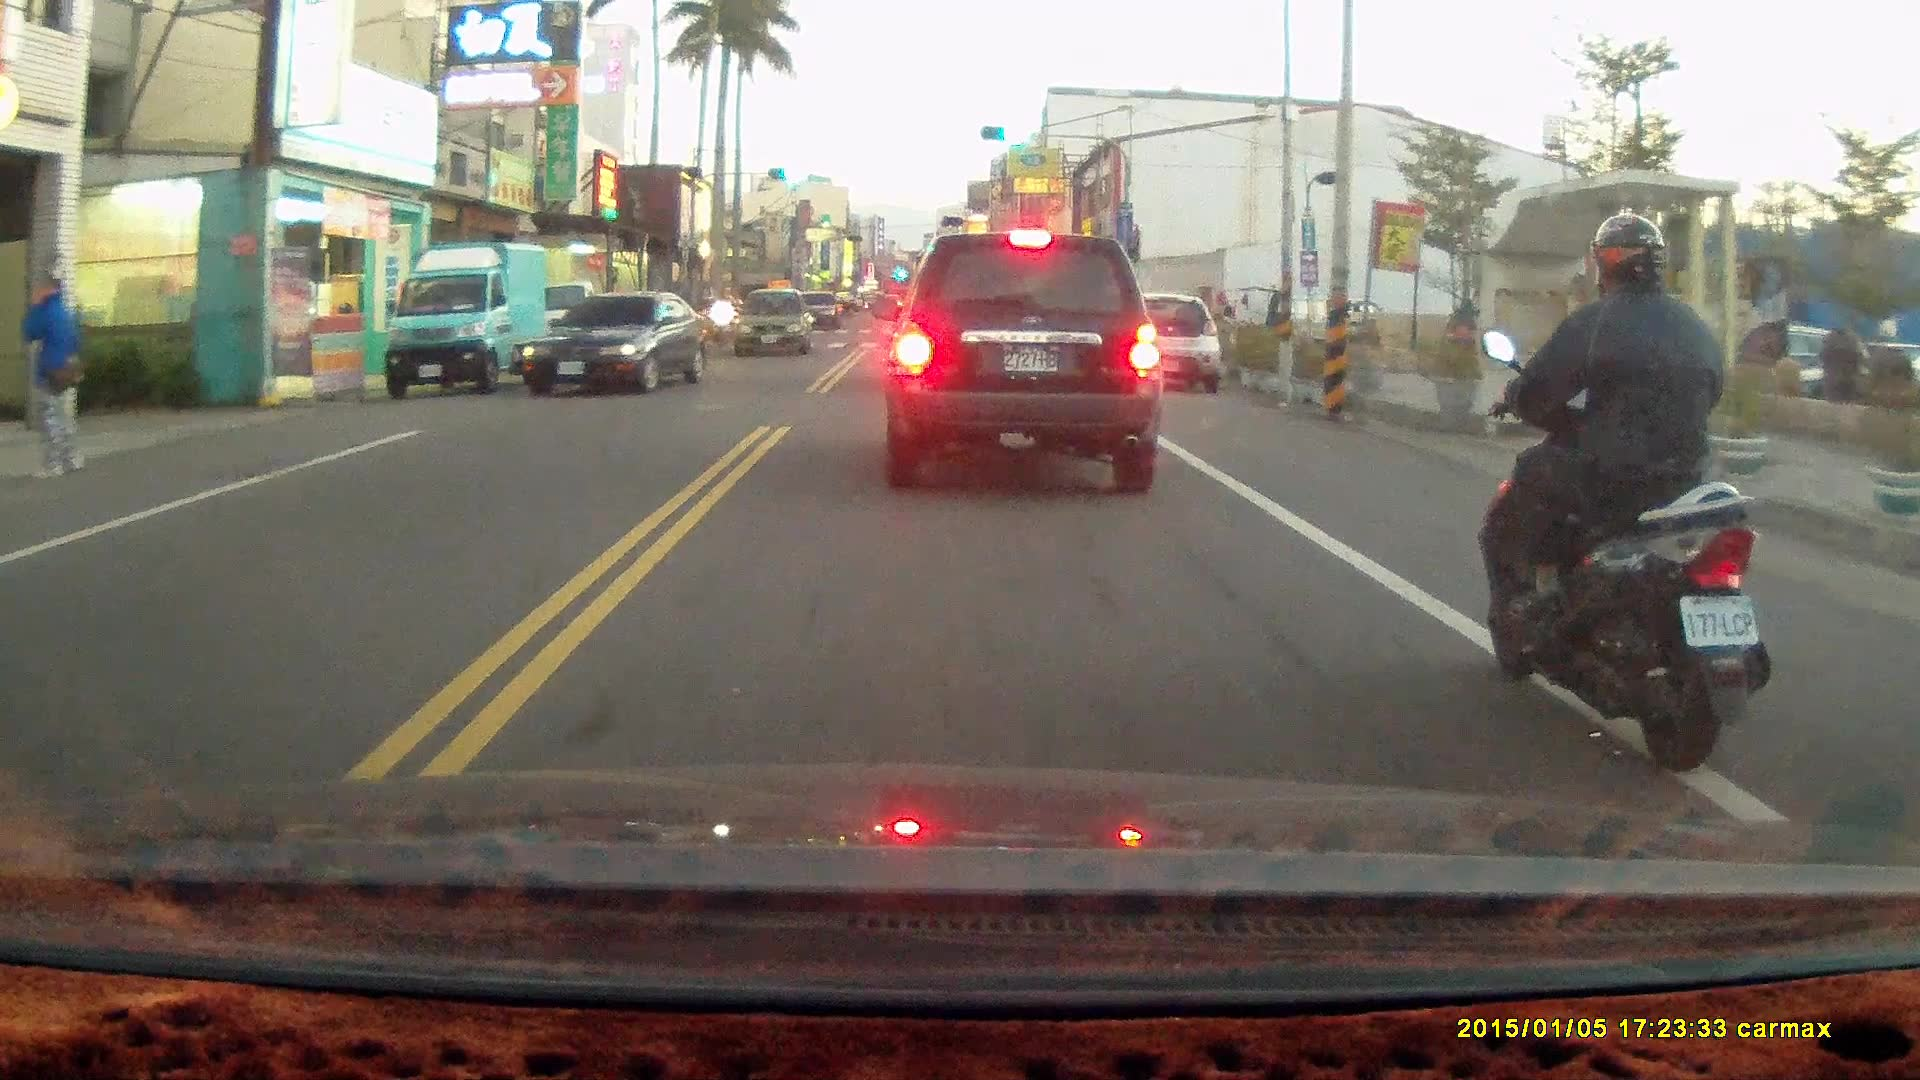pedestrian: (14, 267, 82, 475)
rider: (1475, 207, 1771, 771), (710, 284, 739, 347)
vehicle: (879, 229, 1164, 496), (383, 241, 547, 400), (524, 290, 713, 394), (1111, 291, 1225, 397), (733, 289, 815, 362)
